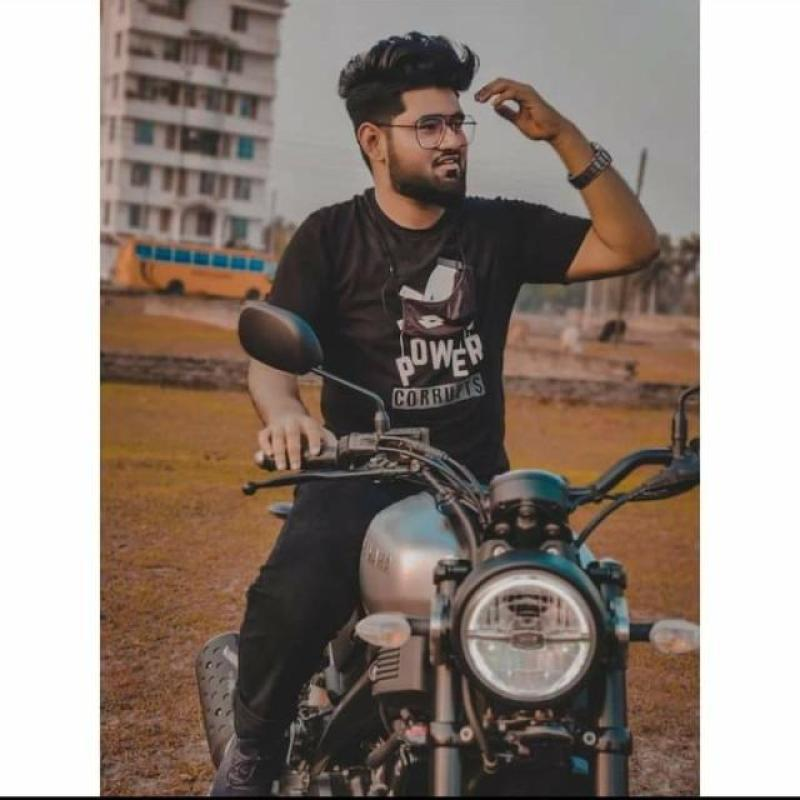nohelmet: (318, 29, 508, 222)
